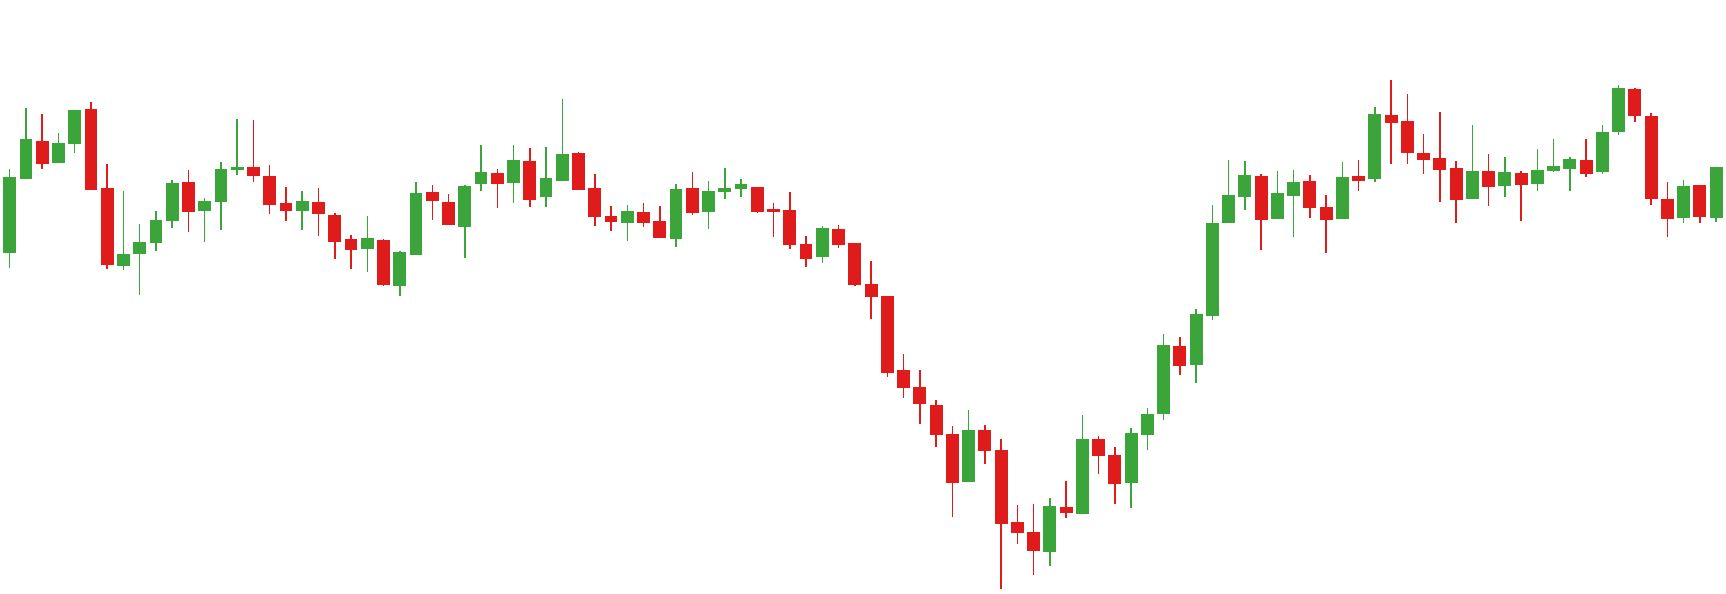buy: (1, 141, 133, 275)
sell: (1433, 78, 1642, 164)
